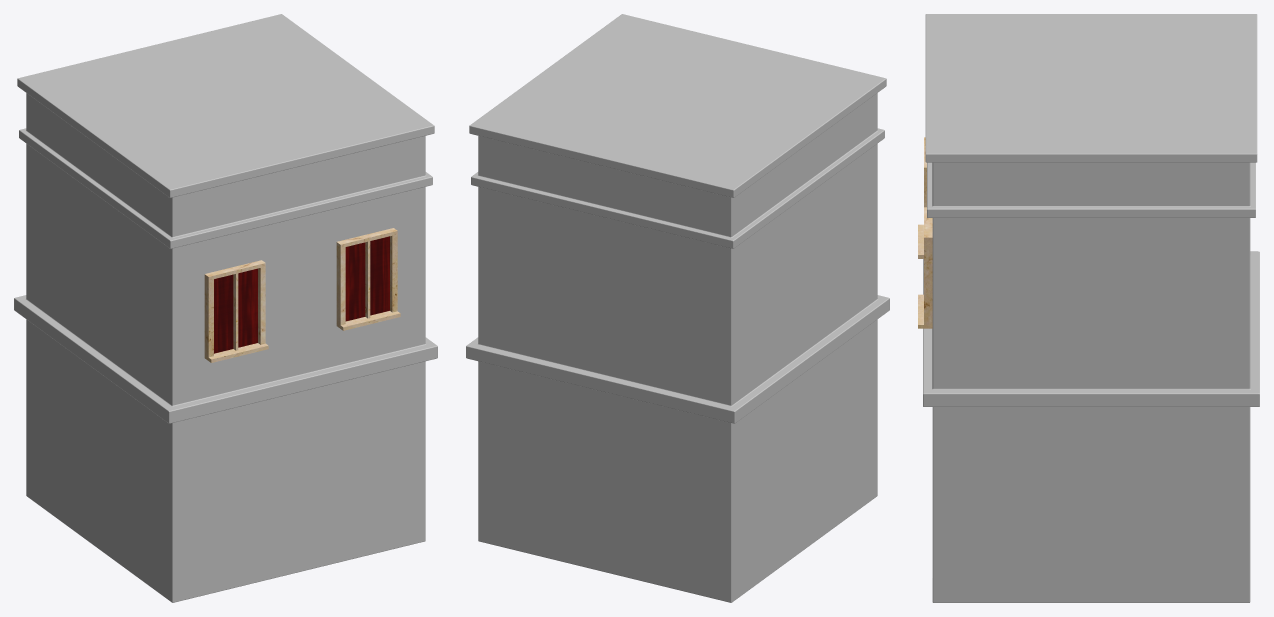
Rendered from Building Base.fbx.
3 renders of one model, left to right at view 1: azimuth 30°, elevation 25°; view 2: azimuth 150°, elevation 25°; view 3: azimuth 270°, elevation 25°, orthographic. The views are drawn at different scales.
Visible parts, largest first — view 1: Cube, Cube.002; view 2: Cube; view 3: Cube, Cube.002.
Boxes of the visible parts, x1,y1,x2,y2 form: Cube: (14, 14, 437, 602); Cube.002: (204, 228, 400, 362); Cube: (466, 14, 889, 602); Cube: (923, 14, 1259, 602); Cube.002: (918, 137, 932, 328).
Bounding box in the file's own units: 425 × 629 × 431.
